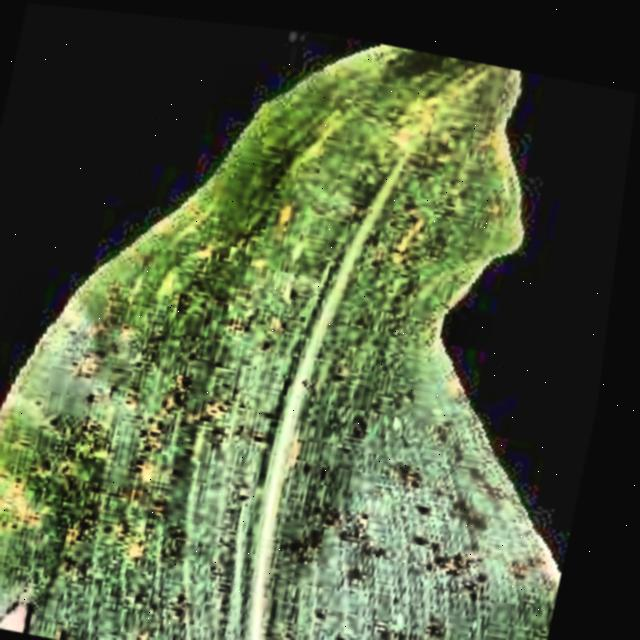common_rust: (0, 3, 609, 640)
